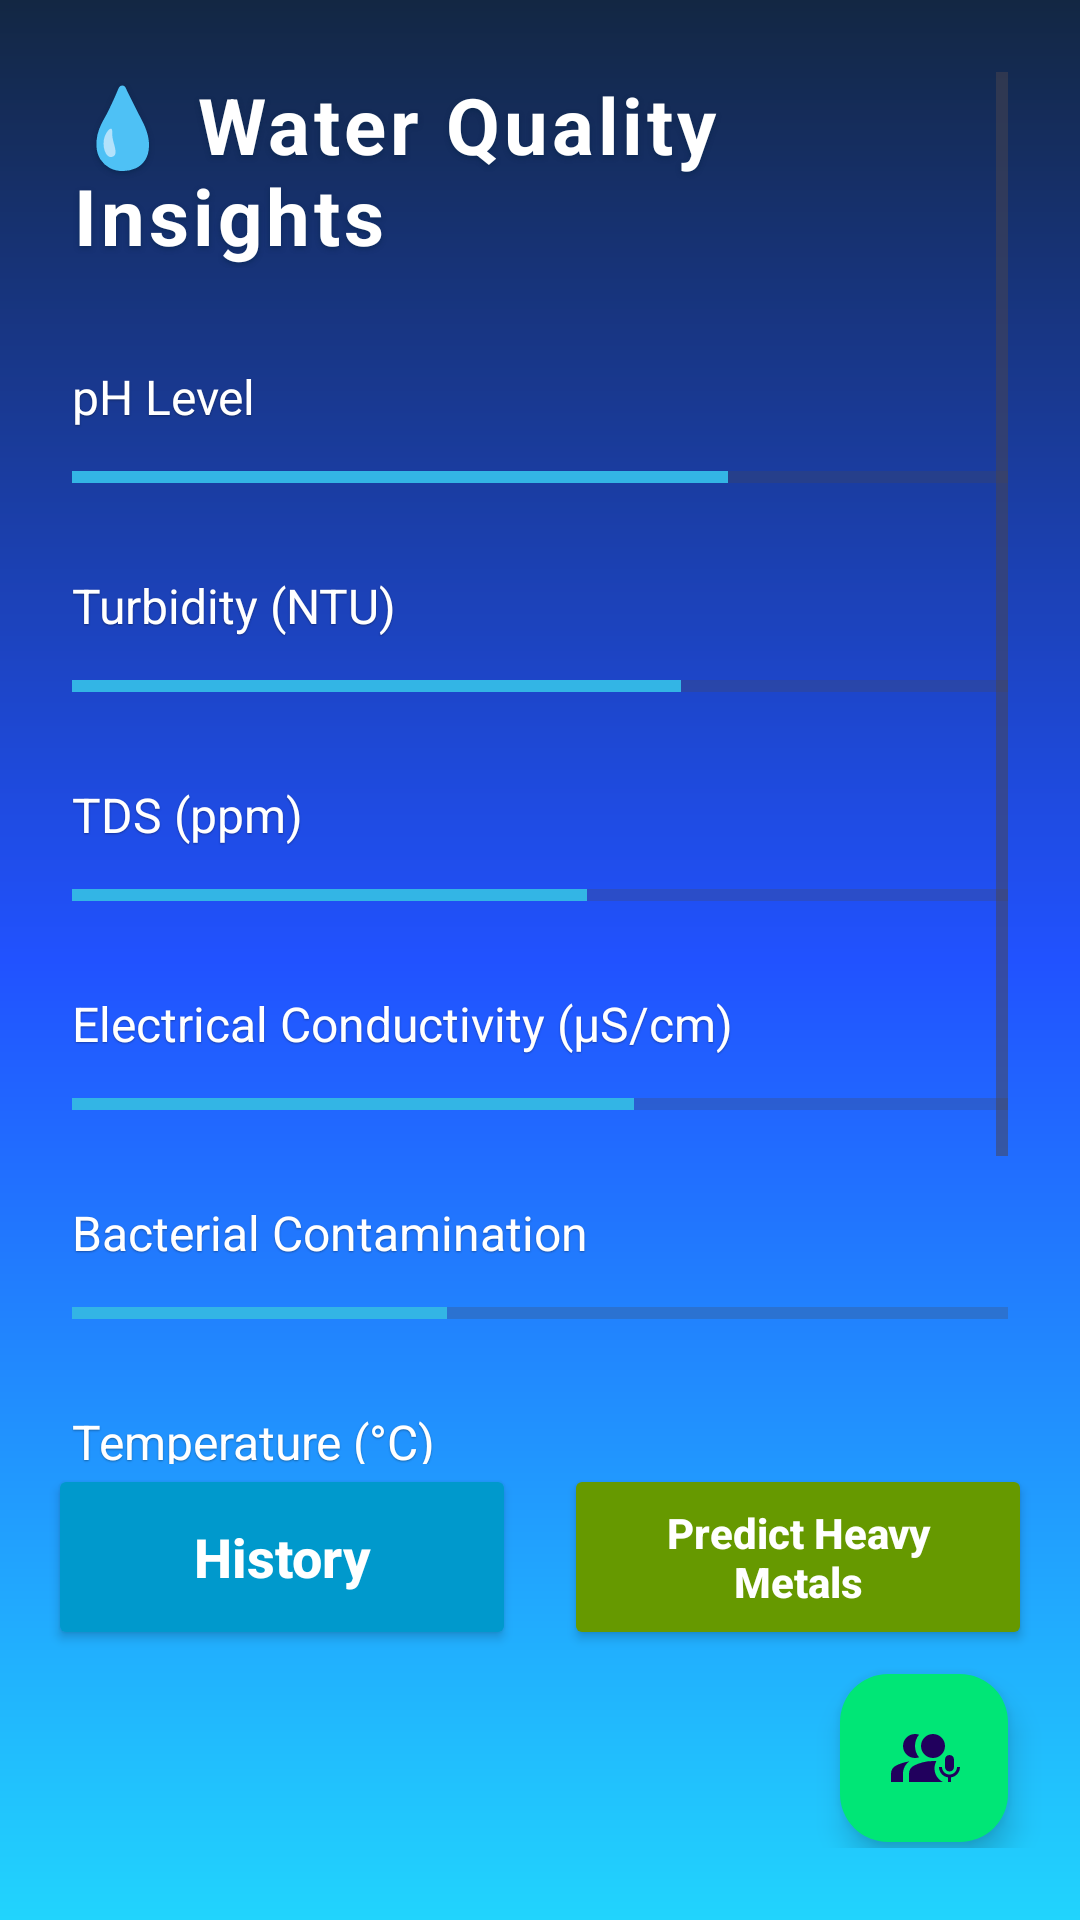

Icon bounding boxes for this 1080 × 1920 phone screenshot, format (x1, y1, x2, y2):
Chatbot: (840, 1674, 1008, 1842)
